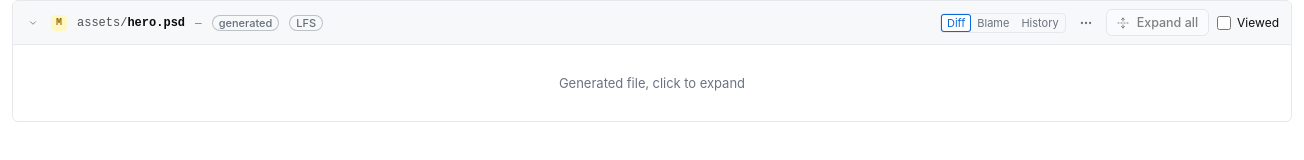
LFS card (atlas tab 19) › reads both pointers of a binary row out of the local object database
Click the button "Generated file, click to expand" at x=652, y=83, box [13,45,1291,121]
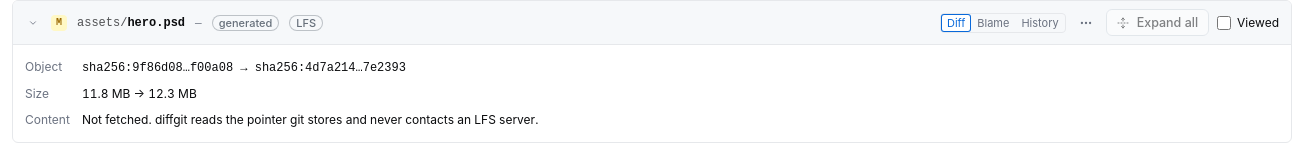
Expected: the text "sha256:9f86d08…f00a08 → sha256:4d7a214…7e2393" is shown, [82,61,406,75]
Expected: the text "Not fetched. diffgit reads the pointer git stores and never contacts an LFS server." is shown, [82,112,538,127]
